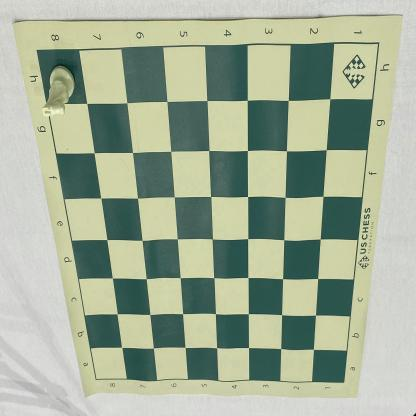white-knight: (42, 64, 76, 118)
